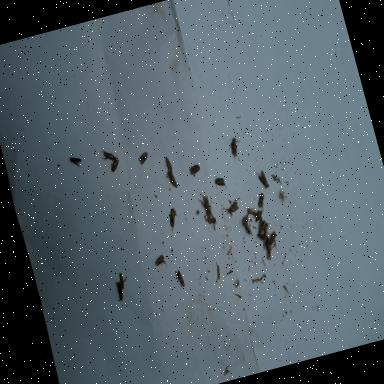pbw: (196, 190, 214, 219), (166, 206, 182, 232), (100, 146, 116, 166), (256, 168, 270, 190), (255, 192, 269, 213), (226, 200, 242, 218), (214, 174, 228, 194), (108, 154, 123, 172), (114, 278, 125, 302), (118, 270, 130, 291), (174, 268, 186, 288), (167, 168, 178, 189), (136, 150, 150, 166), (154, 254, 168, 270), (69, 154, 83, 169), (188, 162, 202, 176), (252, 208, 266, 222), (267, 230, 279, 246), (256, 216, 268, 232), (164, 156, 174, 174), (264, 242, 274, 260), (246, 220, 254, 237), (256, 231, 268, 242), (261, 236, 271, 249), (262, 221, 271, 235), (243, 220, 250, 236), (247, 206, 257, 216)
